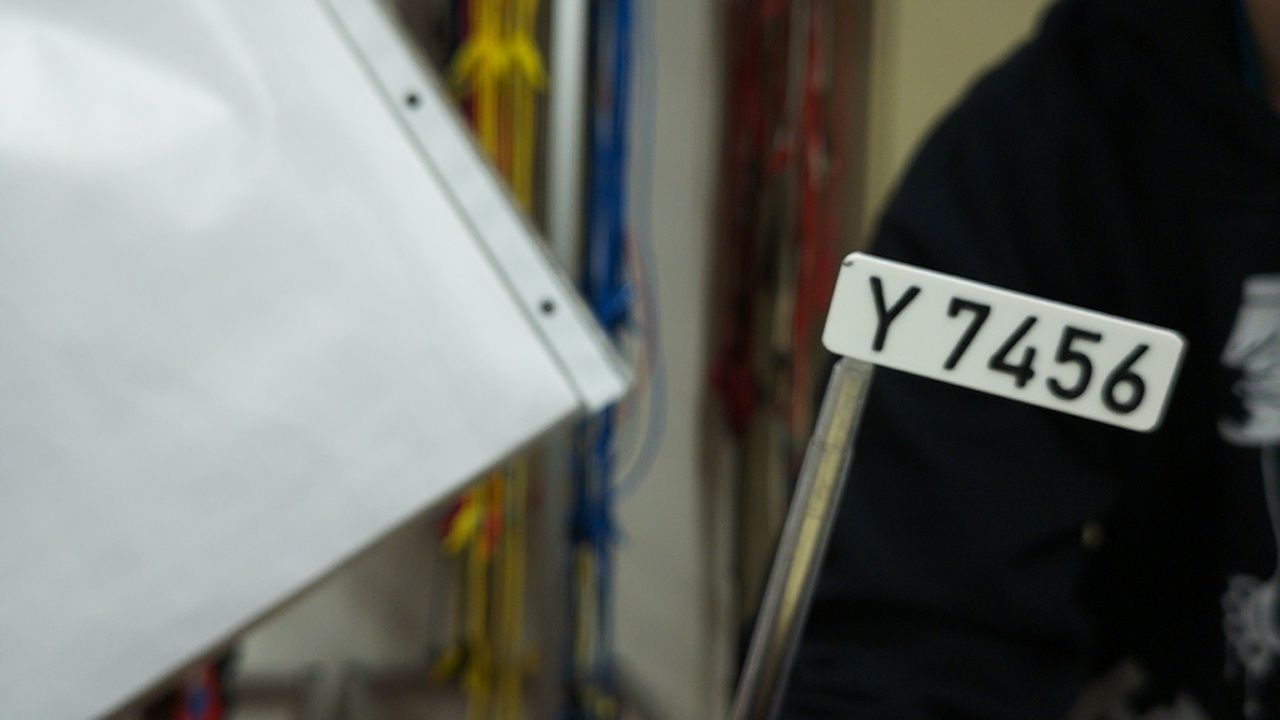license_plate: (821, 246, 1187, 435)
